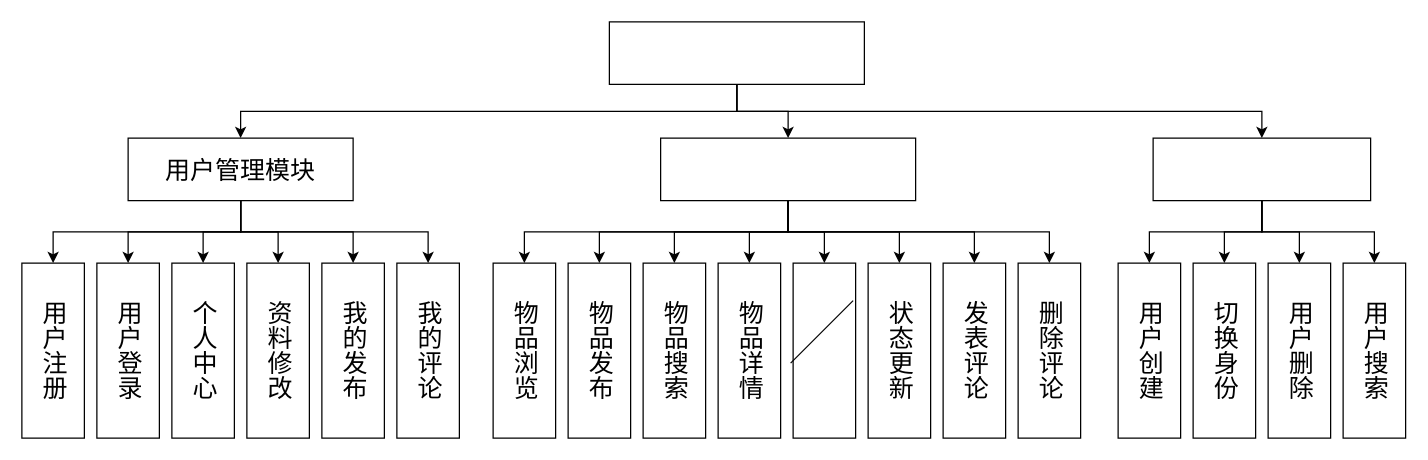
Image size: 1428x460. Some labels were removed from this diagram. The centre of each missing label's shape, as x and y in pixels:
"失物招领管理模块" goes at point 787,169.
"校园失物招领平台" goes at point 736,52.
"系统管理模块" goes at point 1261,169.
"评论互动" goes at point 824,350.
